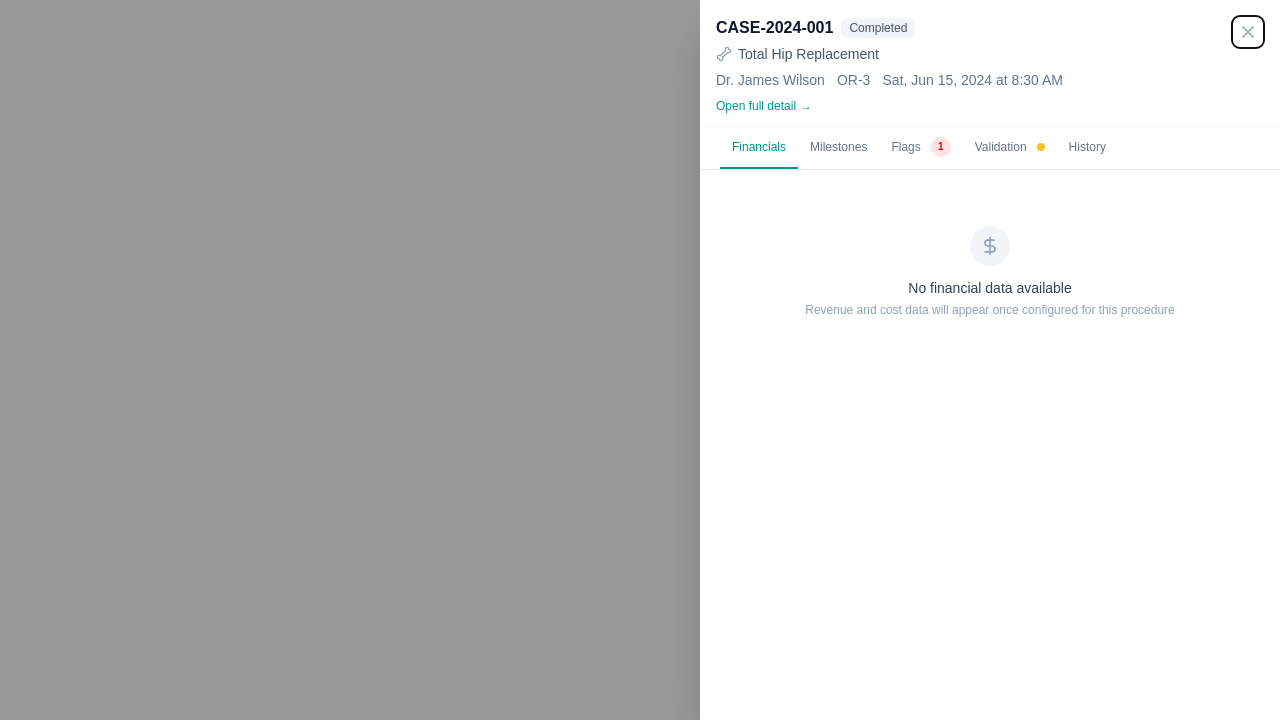
Test case: CaseDrawer — tab switching › switches to Validation tab when present and shows validation content
The width and height of the screenshot is (1280, 720).
What coordinates should you click on to do the following:
click the button "Validation"
I would click on:
 (1010, 148)
Its box is [963, 127, 1056, 169].
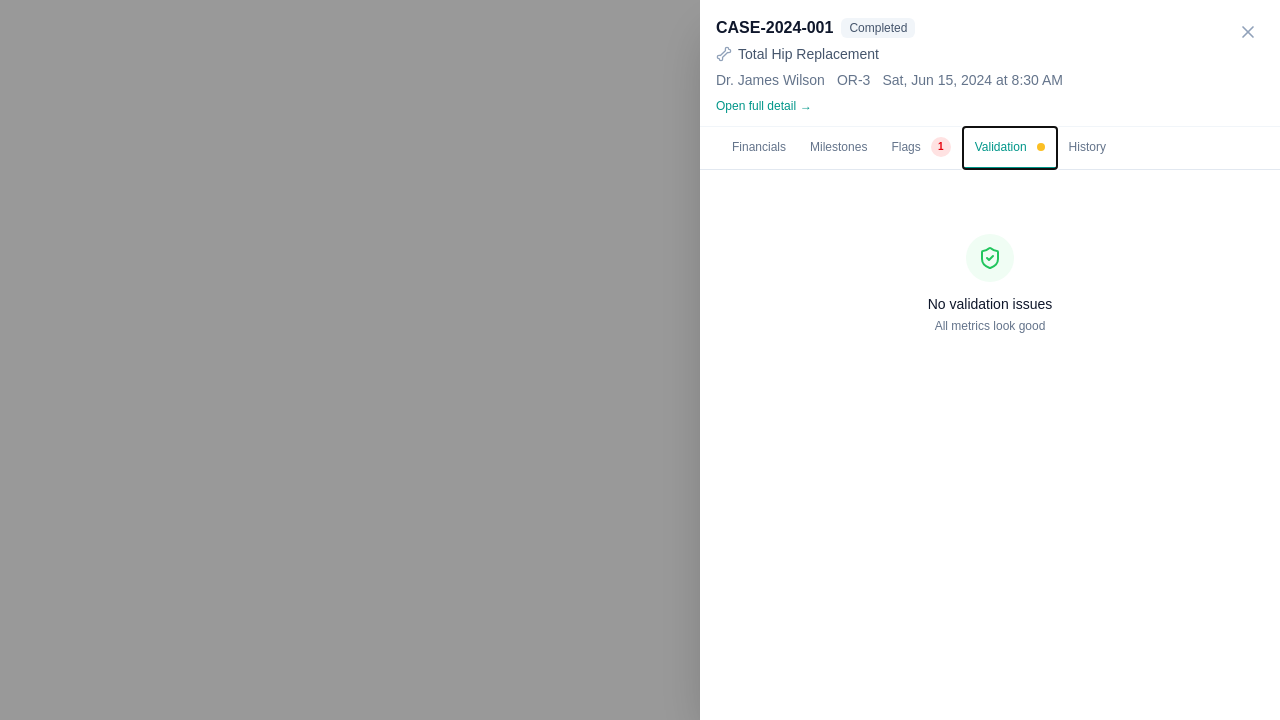
Result: the text "No validation issues" is shown at [928, 294, 1052, 314]
